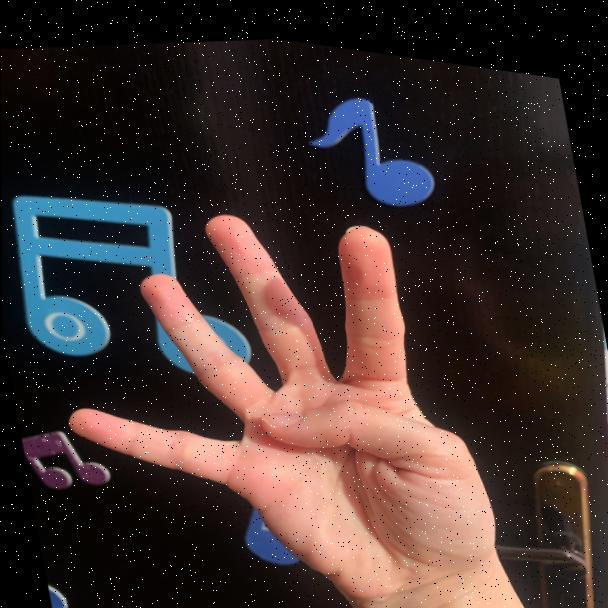four: (35, 146, 505, 608)
